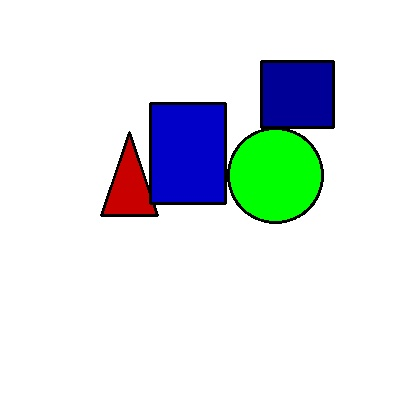circle: (227, 128, 324, 223)
rectangle: (150, 103, 225, 203), (261, 61, 333, 127)
triangle: (101, 132, 157, 215)
